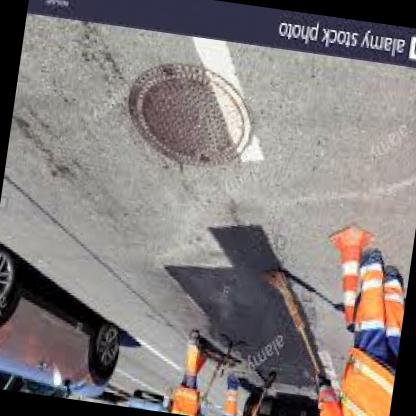manholes: (102, 45, 270, 197)
